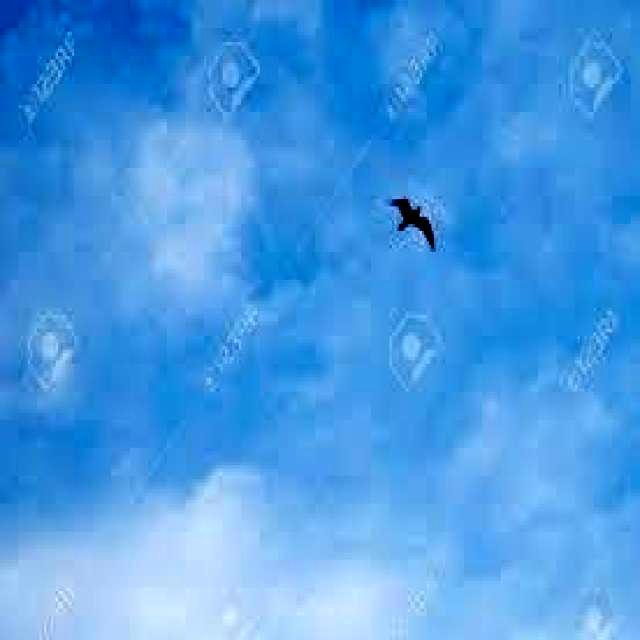bird: (386, 185, 438, 260)
